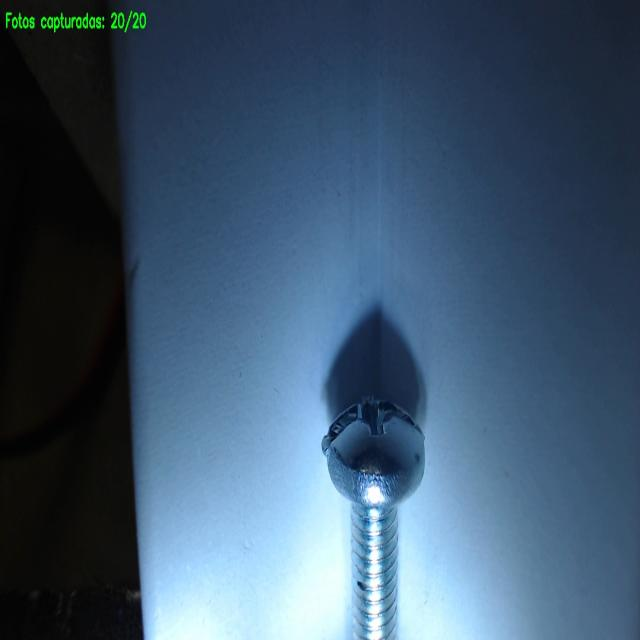vastago: (351, 505, 398, 639)
